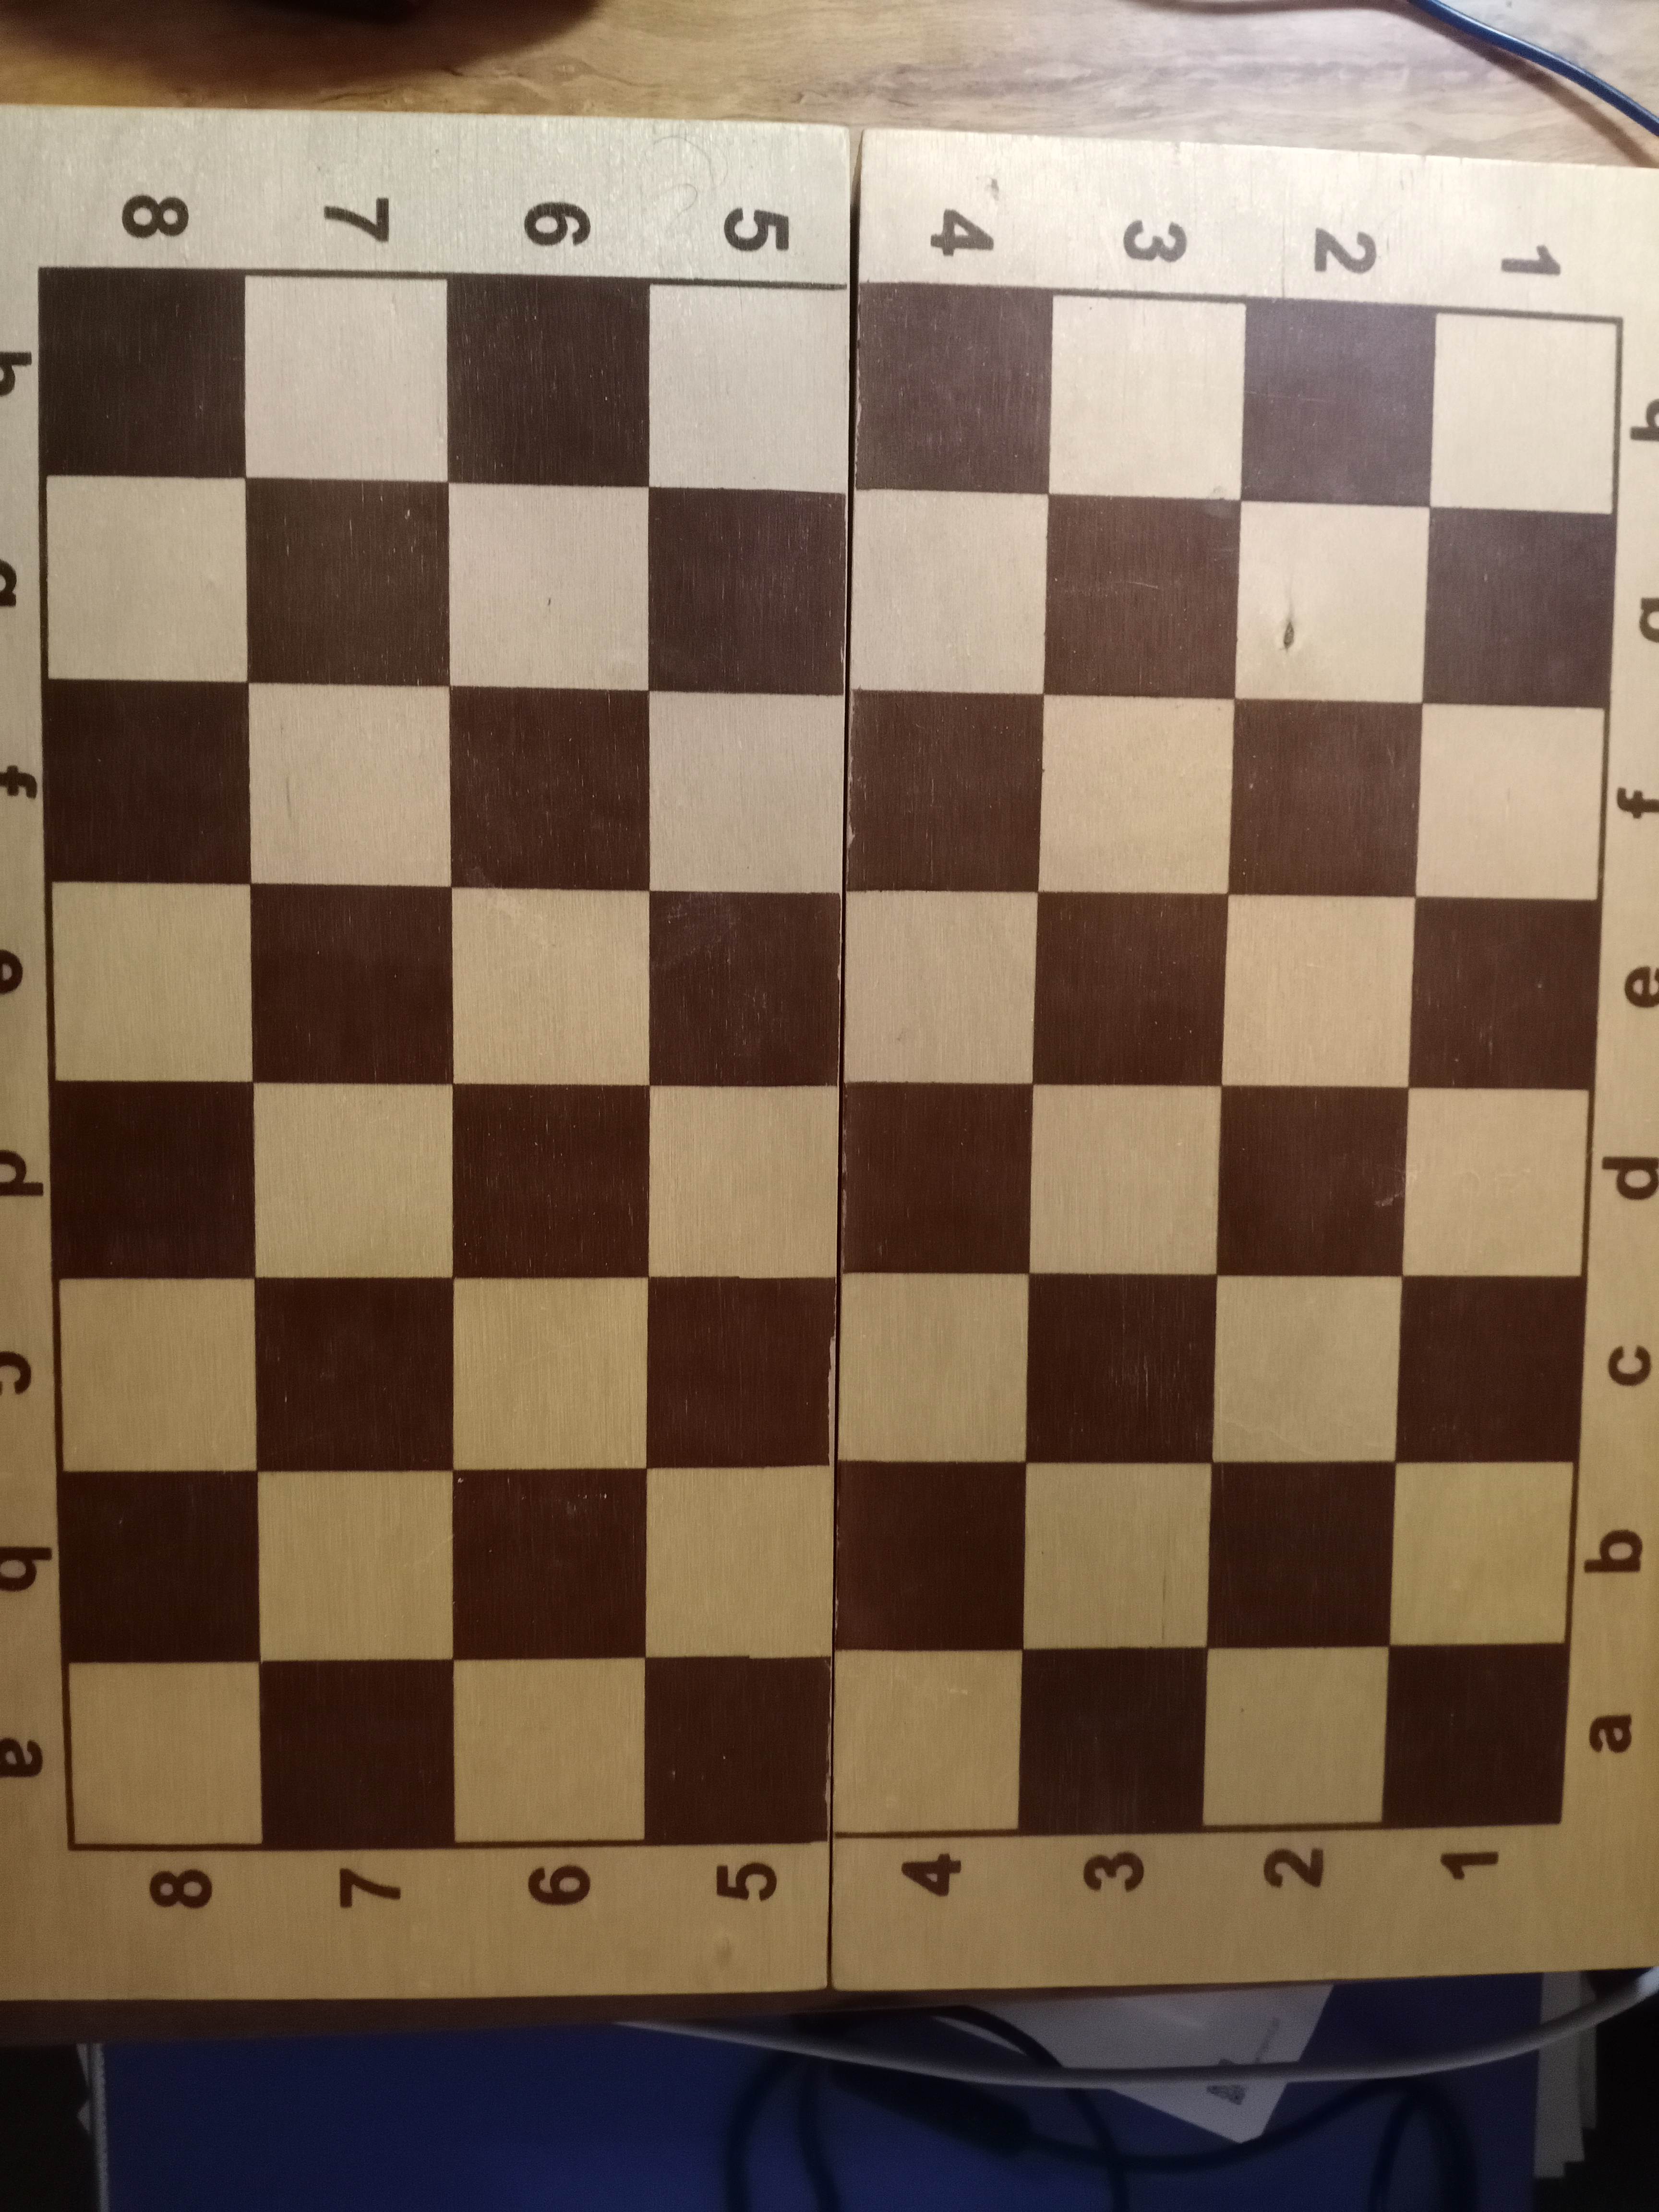Empty_Black_Cell: (244, 475, 451, 683), (446, 280, 650, 488), (44, 272, 247, 477), (448, 685, 650, 892), (47, 1083, 258, 1282), (44, 683, 251, 883), (857, 284, 1049, 495), (251, 883, 453, 1082), (650, 489, 847, 693), (1046, 496, 1241, 698), (847, 690, 1042, 892), (1241, 307, 1436, 505), (451, 1082, 650, 1277), (254, 1277, 455, 1470), (61, 1470, 261, 1663), (1424, 507, 1614, 709), (647, 892, 843, 1085), (1025, 1270, 1218, 1463), (1033, 892, 1223, 1089), (450, 1468, 647, 1658), (1230, 700, 1420, 895), (833, 1461, 1025, 1653), (1216, 1089, 1410, 1278), (647, 1277, 836, 1467), (840, 1085, 1033, 1271), (260, 1660, 455, 1844), (1208, 1463, 1398, 1651), (1410, 899, 1596, 1089), (1396, 1277, 1581, 1463), (645, 1655, 833, 1838), (1018, 1649, 1208, 1827), (1384, 1646, 1565, 1824)
